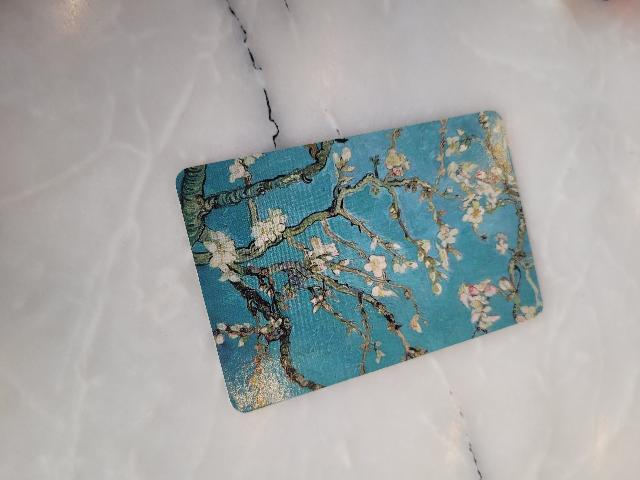Plastik: (147, 104, 545, 418)
